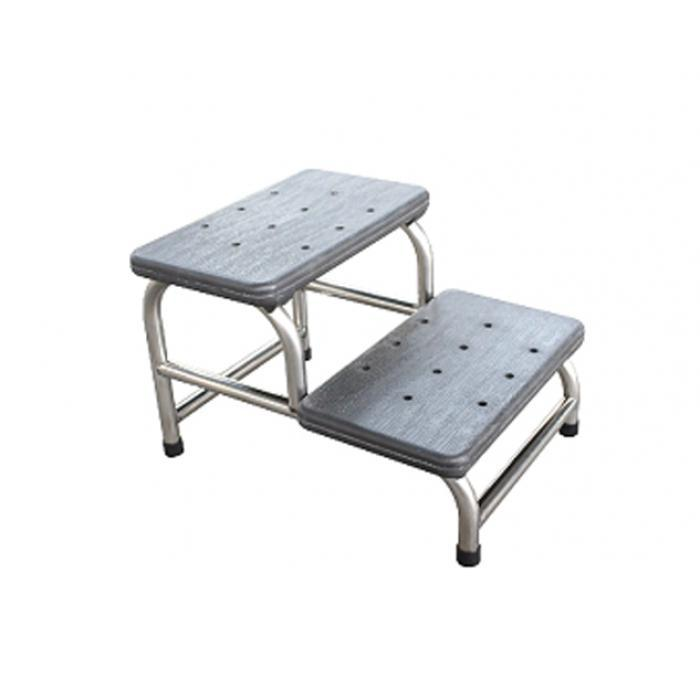stool: (133, 164, 606, 568)
